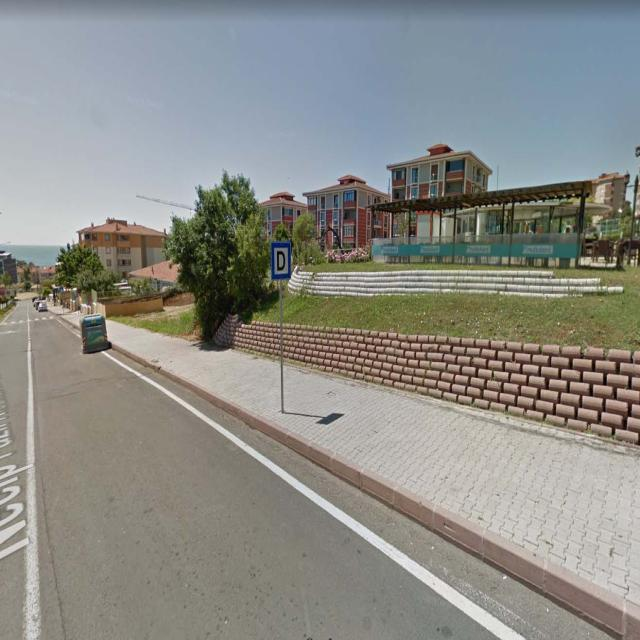durak: (271, 243, 291, 279)
